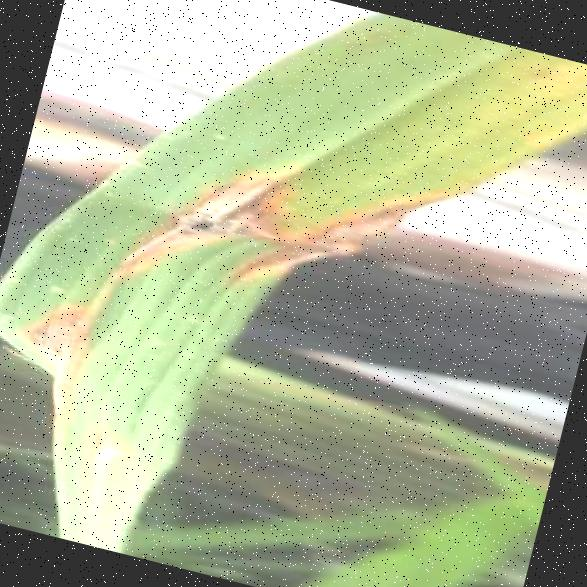Leaf_smut: (233, 138, 452, 310), (119, 115, 304, 296), (0, 247, 132, 412), (40, 398, 142, 520)
